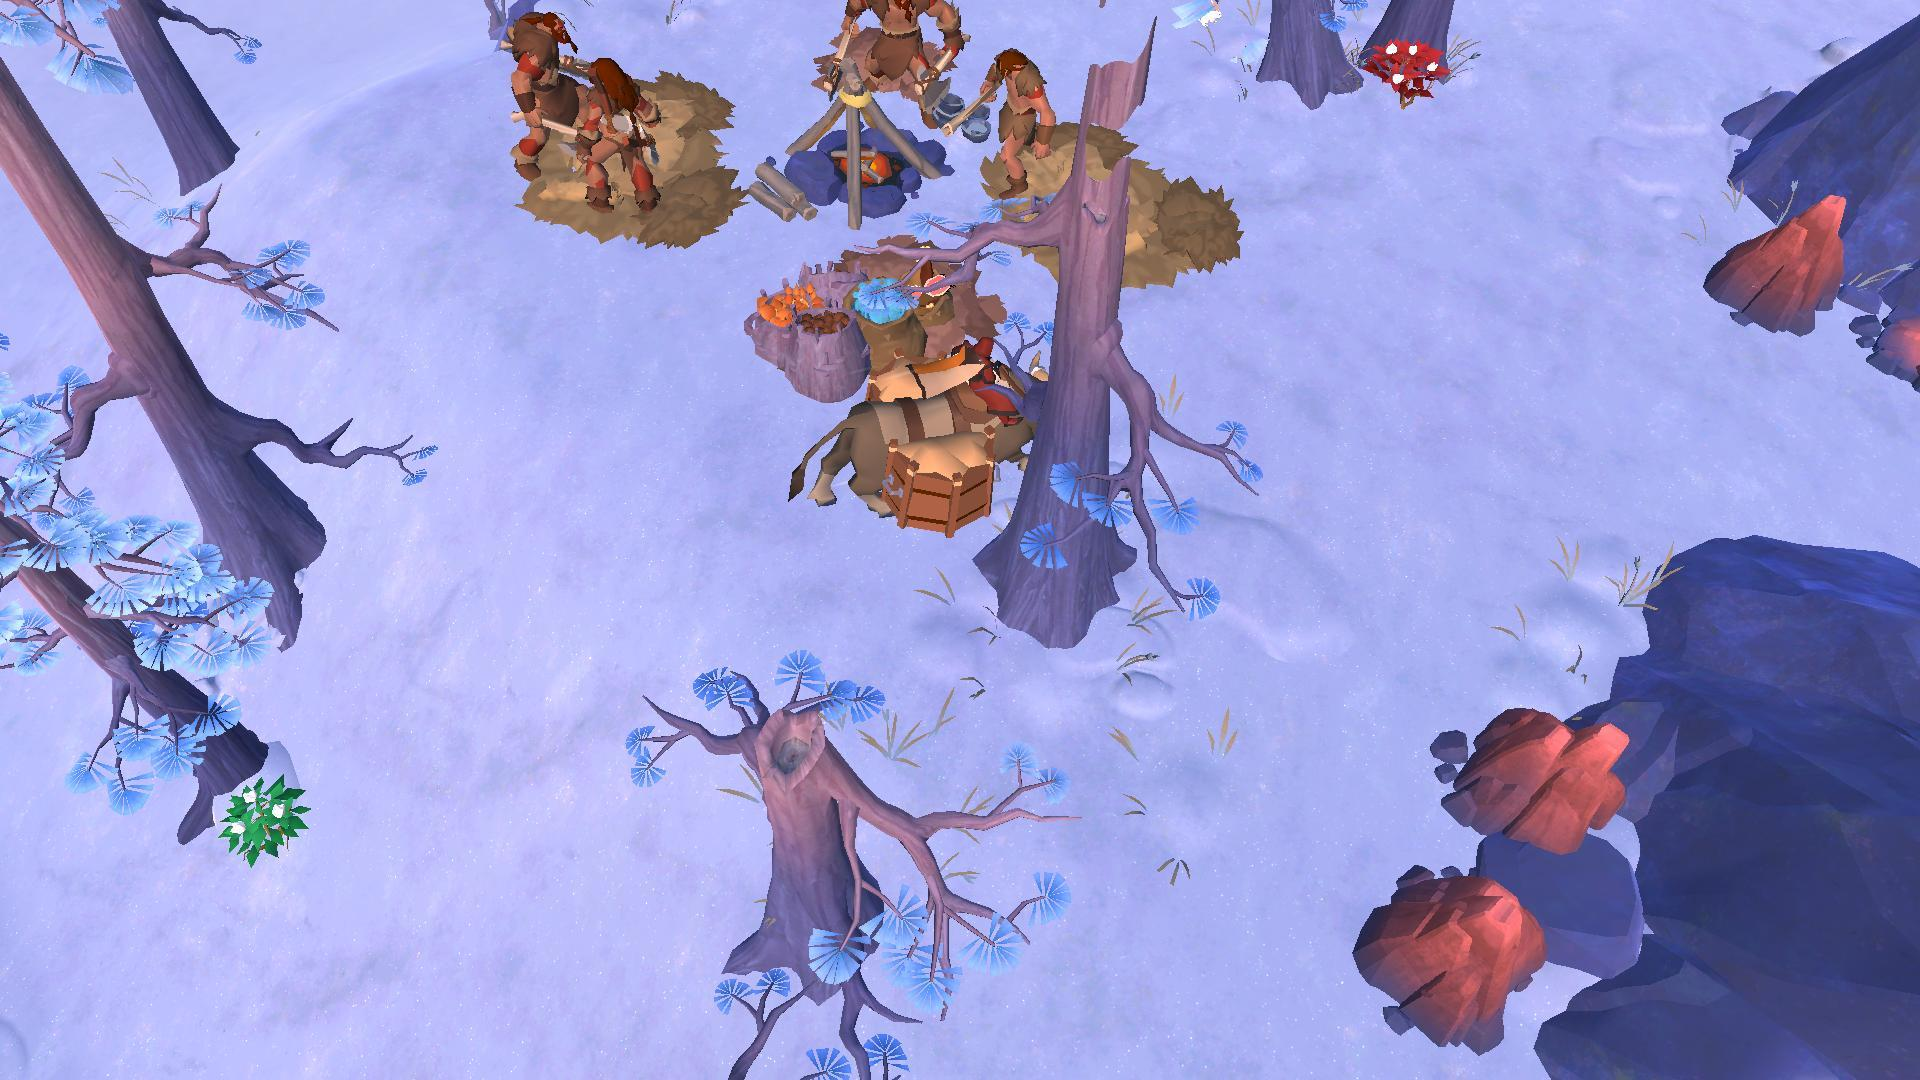enemy_factionKeeper: (984, 49, 1073, 211), (829, 0, 971, 103), (509, 7, 595, 170), (589, 54, 663, 220)
fiber_t3: (203, 773, 306, 861)
fiber_t5: (1361, 33, 1455, 108)
rock_t5: (1340, 860, 1542, 1050), (1437, 705, 1643, 851), (1702, 181, 1851, 343)
